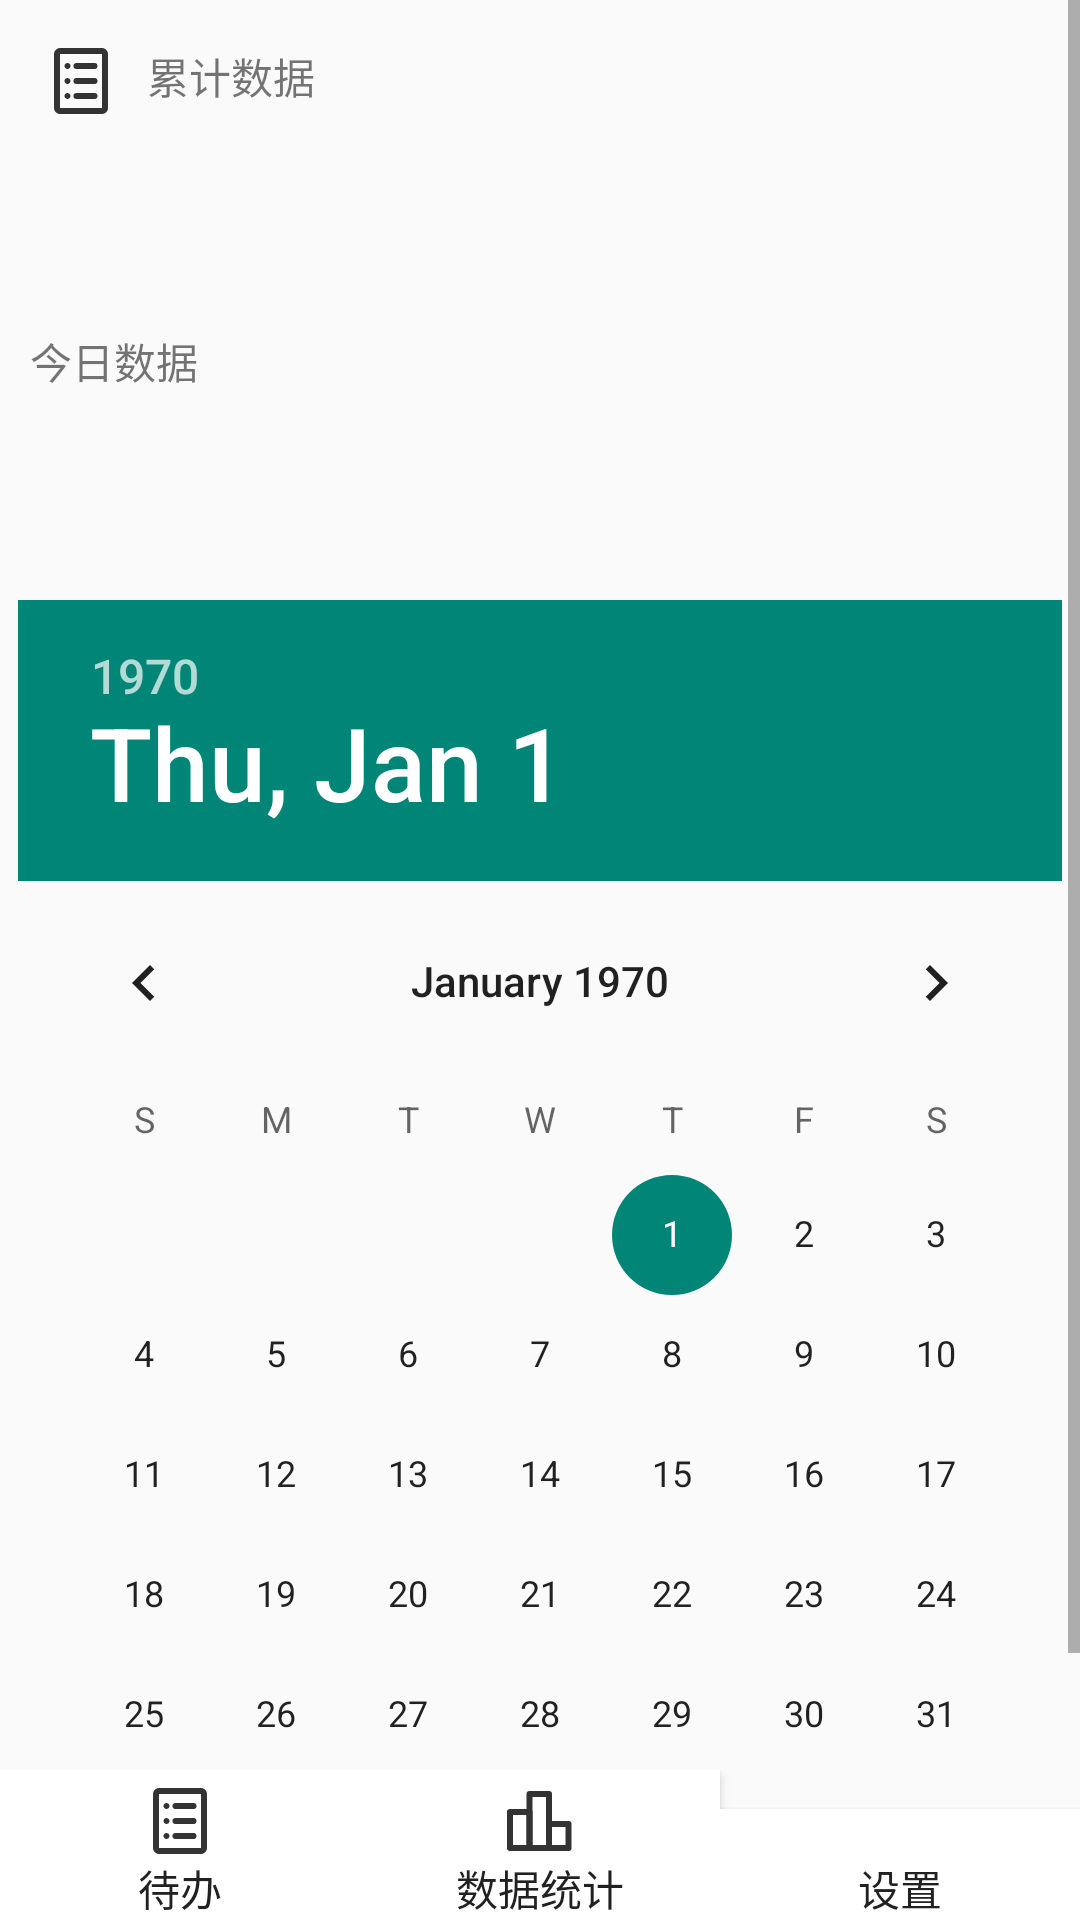

Named icons in this screenshot (1080px×1920px) and their centers, point (x, y):
list: point (81, 81)
